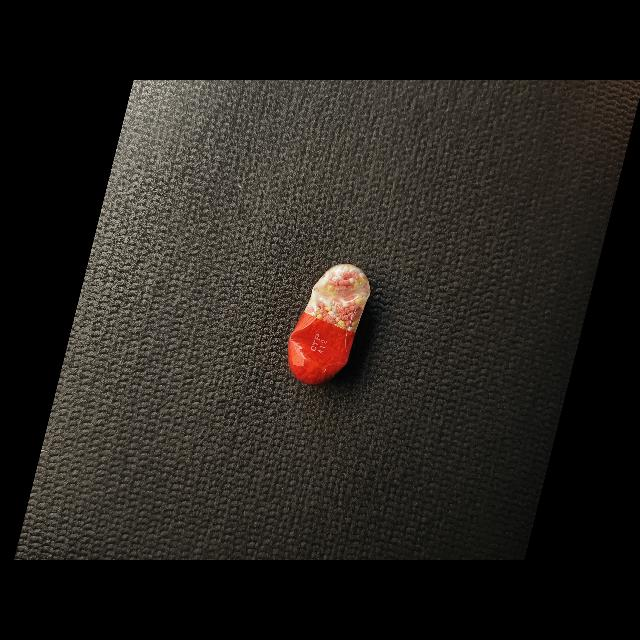Defective Capsule: (288, 263, 371, 385)
